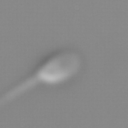normal: (1, 75, 39, 108)
